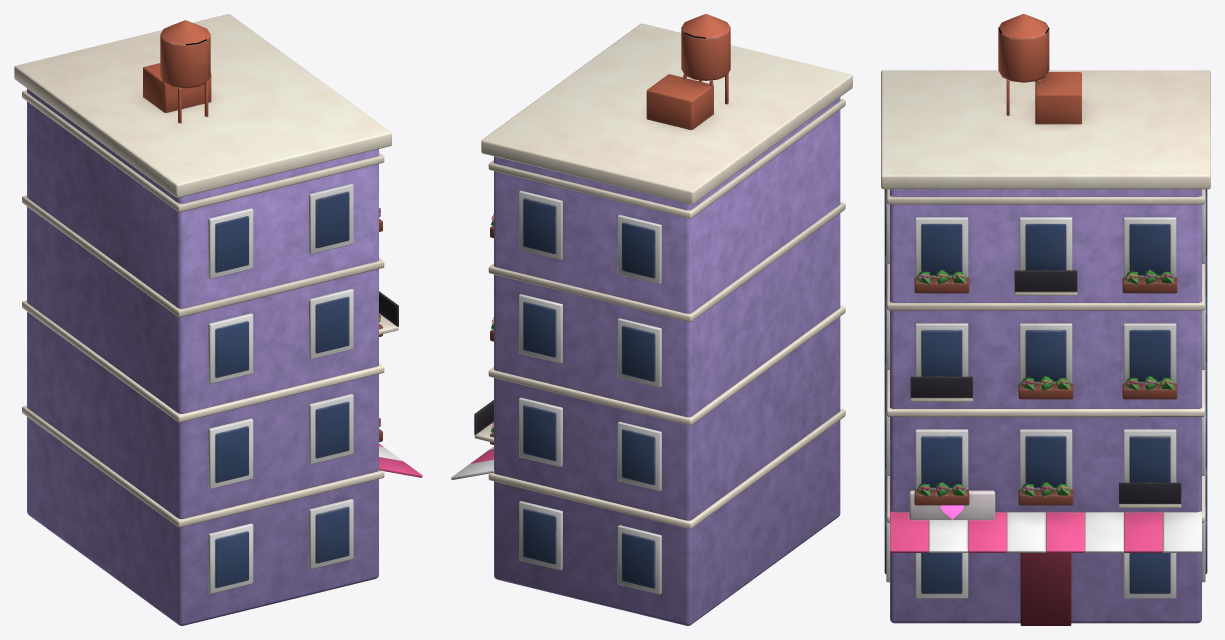
File: rc_building_c.glb
3 renders of one model, left to right at view 1: azimuth 30°, elevation 25°; view 2: azimuth 150°, elevation 25°; view 3: azimuth 270°, elevation 25°, orthographic. The views are drawn at different scales.
Visible parts, largest first — view 1: rc_building_c; view 2: rc_building_c; view 3: rc_building_c.
Boxes of the visible parts, left/top/right/bottom form: rc_building_c: left=14, top=14, right=422, bottom=625; rc_building_c: left=451, top=14, right=852, bottom=625; rc_building_c: left=881, top=14, right=1210, bottom=625.
Size of the model in its own units: 7.48 by 15.45 by 8.45.
17 materials, 17 textured.
